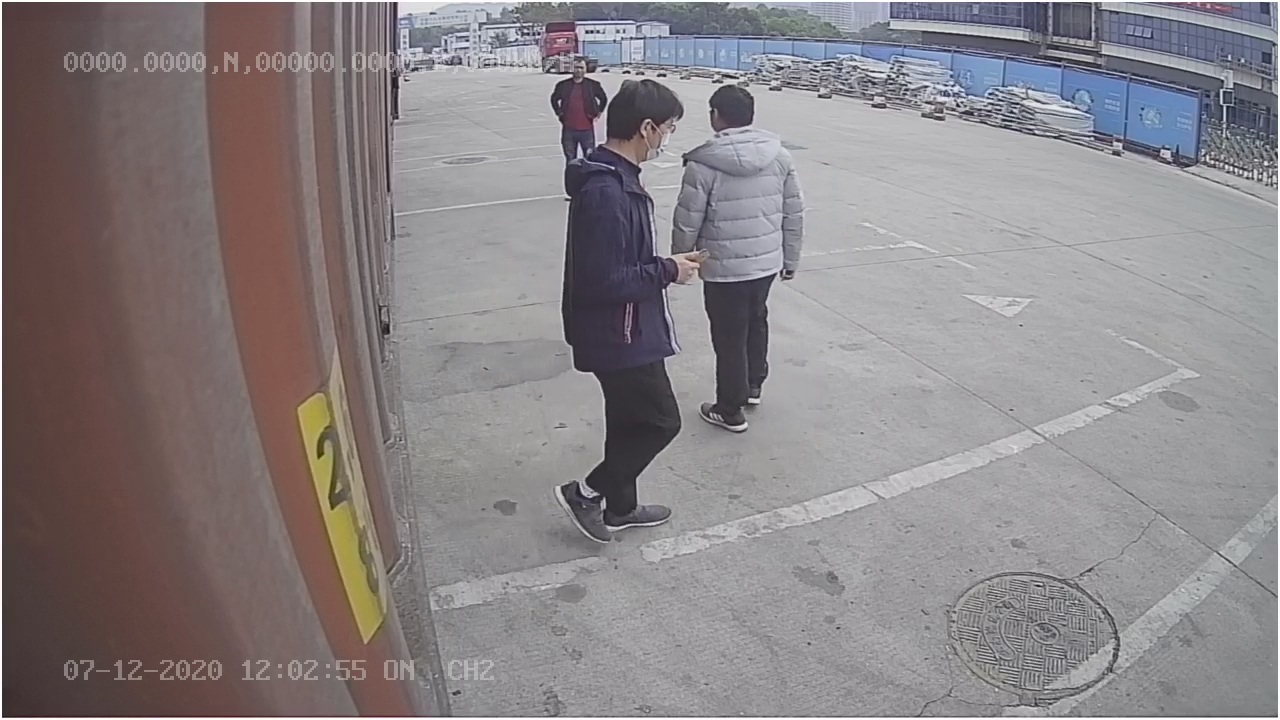person: (552, 83, 697, 543)
